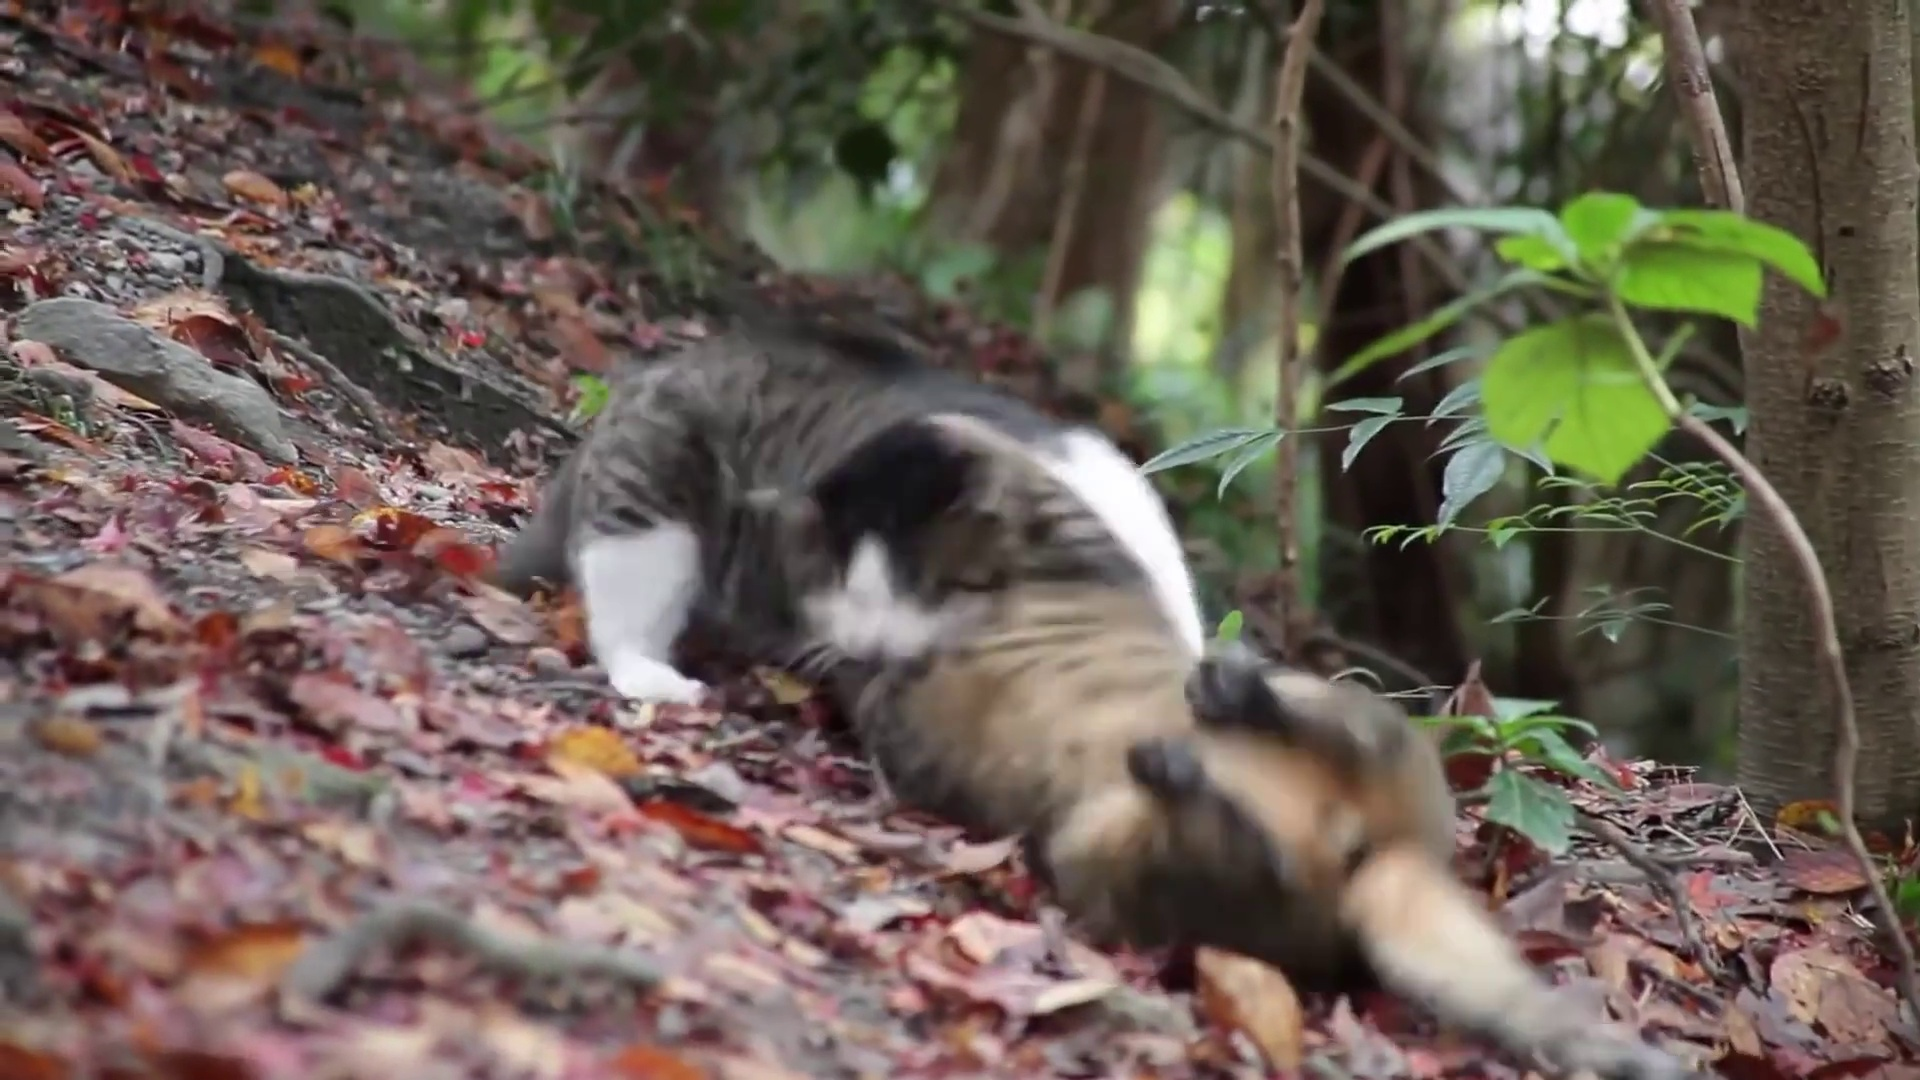black-white: (487, 338, 1147, 699)
pure black: (829, 508, 1662, 1073)
